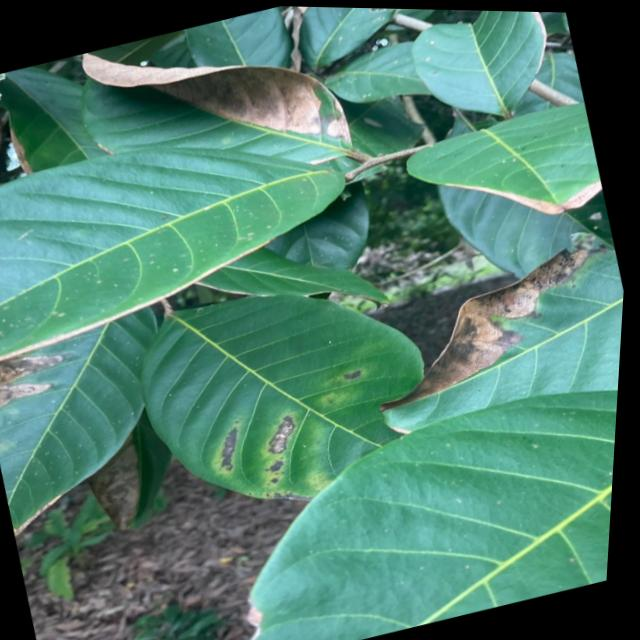Leaf Blight: (395, 247, 627, 431), (0, 303, 156, 538), (0, 236, 280, 363), (80, 53, 359, 164), (413, 97, 604, 209), (251, 596, 295, 640)
